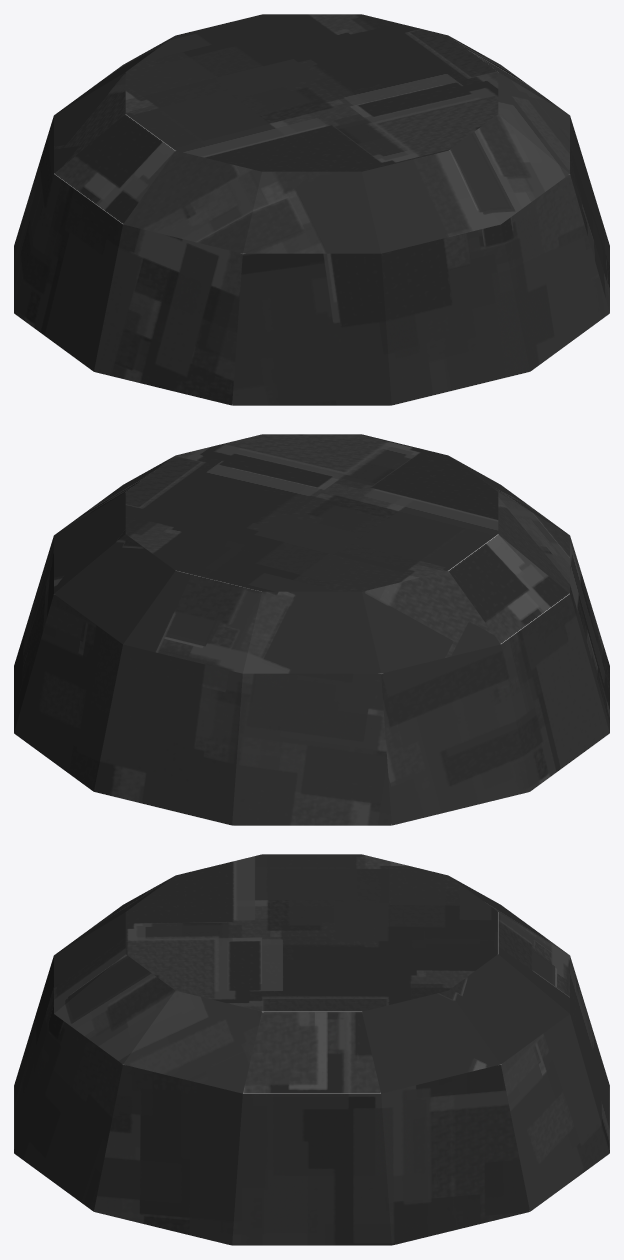
The model's file is Rock.fbx.
The picture shows the model from 3 angles, top to bottom: view 1: azimuth 30°, elevation 25°; view 2: azimuth 150°, elevation 25°; view 3: azimuth 270°, elevation 25°; orthographic projection.
Parts seen in each view (by area): view 1: sphere; view 2: sphere; view 3: sphere.
Part boxes in pixels (left/top/right/bottom): sphere: left=14, top=14, right=609, bottom=405; sphere: left=14, top=434, right=609, bottom=825; sphere: left=14, top=854, right=609, bottom=1245.
Size of the model in its own units: 100 by 35 by 100.
Materials: 1 (1 with a texture image).
